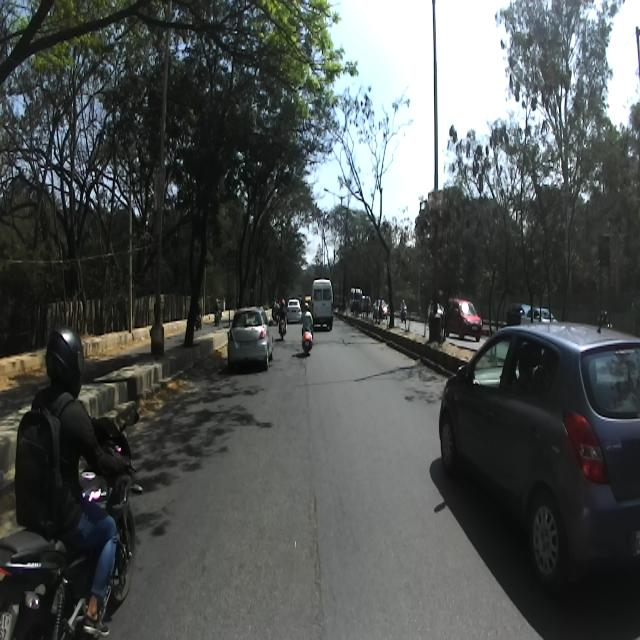car ahead at: (434, 317, 640, 596), (222, 303, 279, 375)
motorcycle ahead at: (4, 407, 144, 640)
